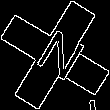N_SW: (24, 23, 86, 87)
